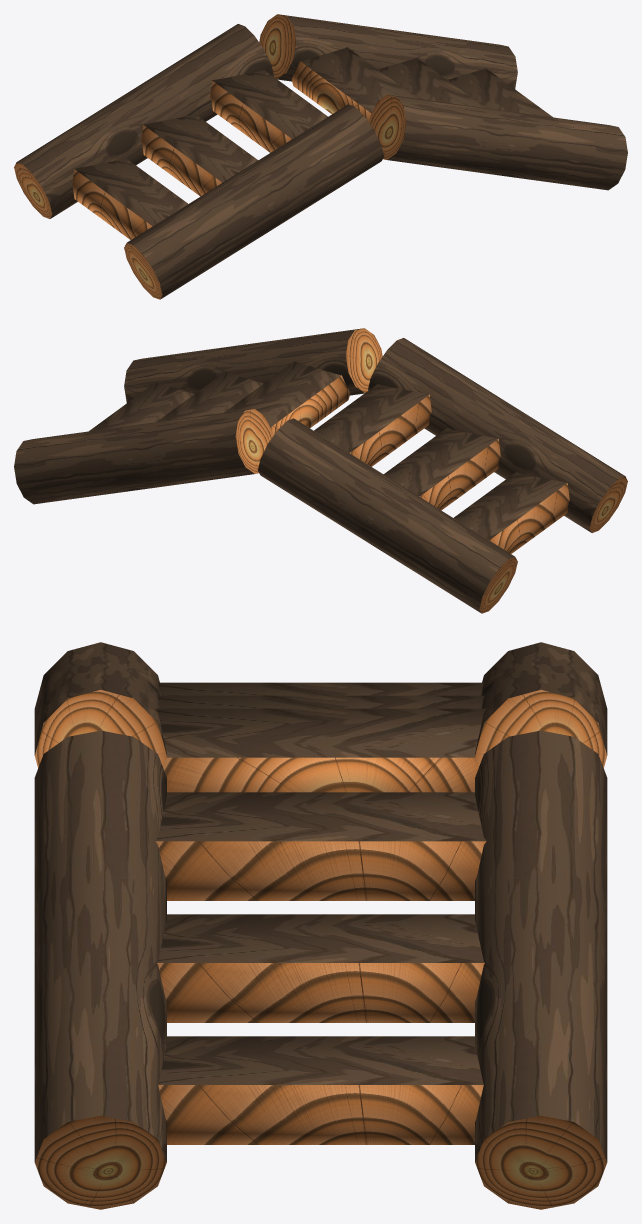
The model's file is Bridge.fbx.
The picture shows the model from 3 angles, top to bottom: view 1: azimuth 30°, elevation 25°; view 2: azimuth 150°, elevation 25°; view 3: azimuth 270°, elevation 25°; orthographic projection. The views are drawn at different scales.
Parts seen in each view (by area): view 1: Frame, Steps; view 2: Frame, Steps; view 3: Frame, Steps.
Part boxes in pixels (<box>): Frame: <box>14,14,627,299</box>; Steps: <box>72,47,552,239</box>; Frame: <box>14,328,627,613</box>; Steps: <box>89,361,569,553</box>; Frame: <box>34,642,607,1209</box>; Steps: <box>155,682,486,1144</box>.
Bounding box in the file's own units: 10.18 × 2.83 × 5.2.
